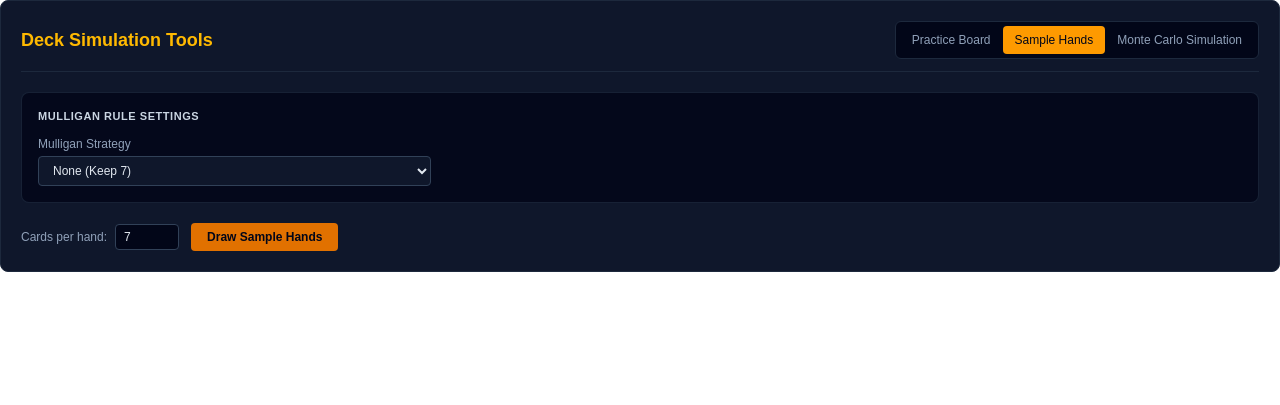
DeckSimulationPanel Component › draws sample hands with mulligan configuration
Expected: the button "Sample Hands" is shown, [1002,26,1105,54]
Click the button "Draw Sample Hands". click: (265, 237)
box: [191,223,338,251]
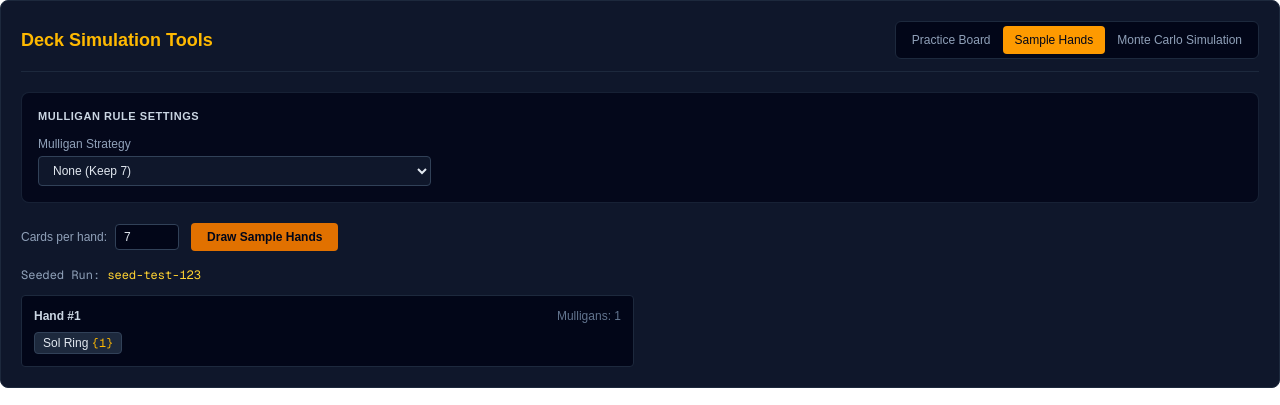
Expected: the text "Hand #1" is shown, [34,308,81,324]
Expected: the text "Sol Ring {1}" is shown, [34,332,122,354]
Expected: the text "Mulligans: 1" is shown, [557,308,621,324]
